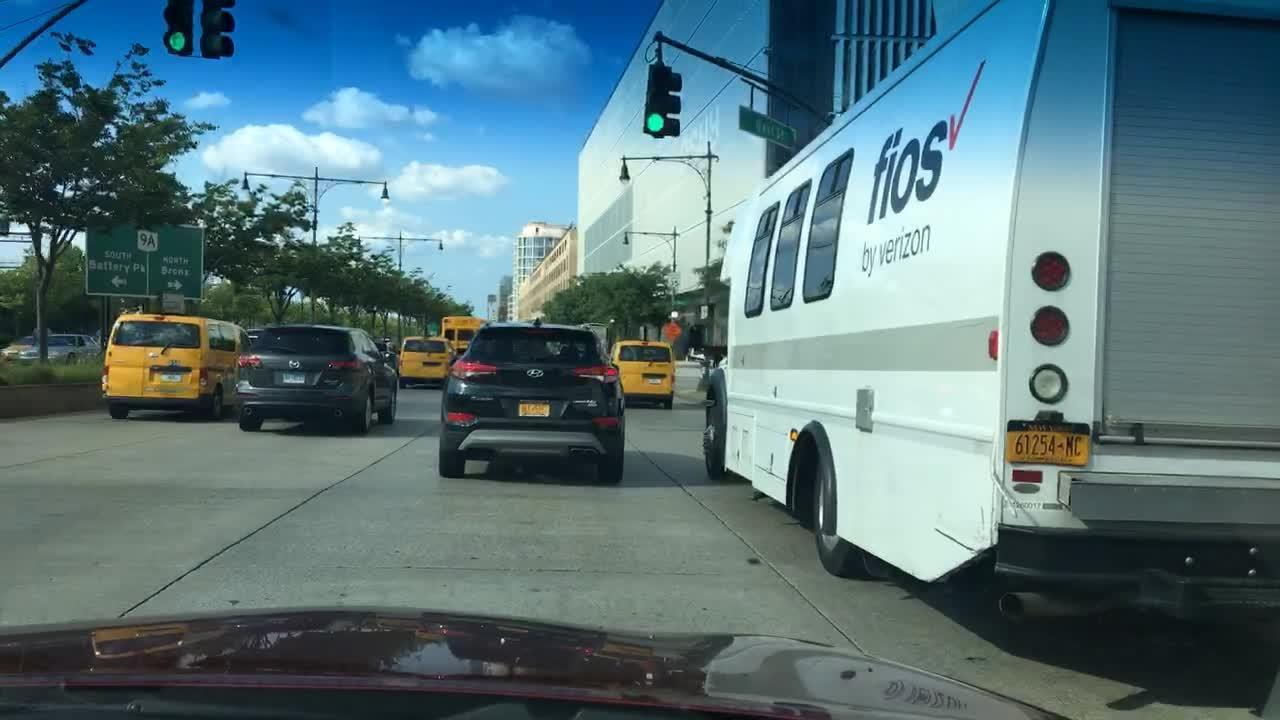Hyundai: (518, 360, 549, 380)
Mazda: (284, 353, 306, 372)
